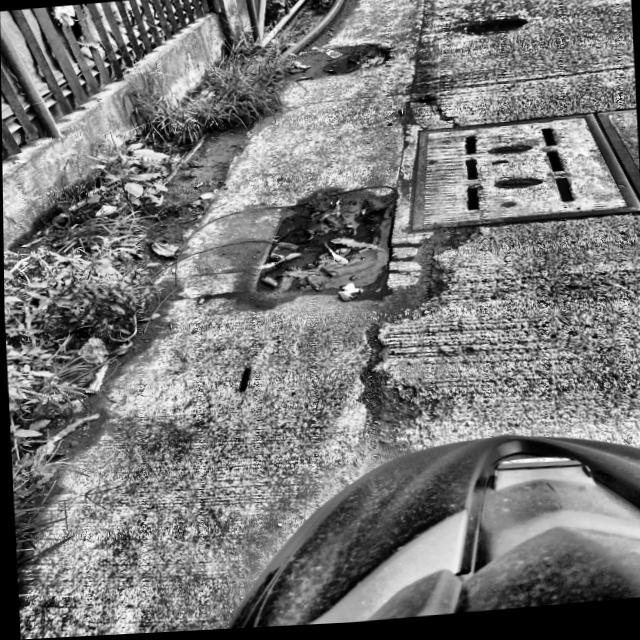pothole: (256, 186, 396, 297), (463, 13, 527, 34)
